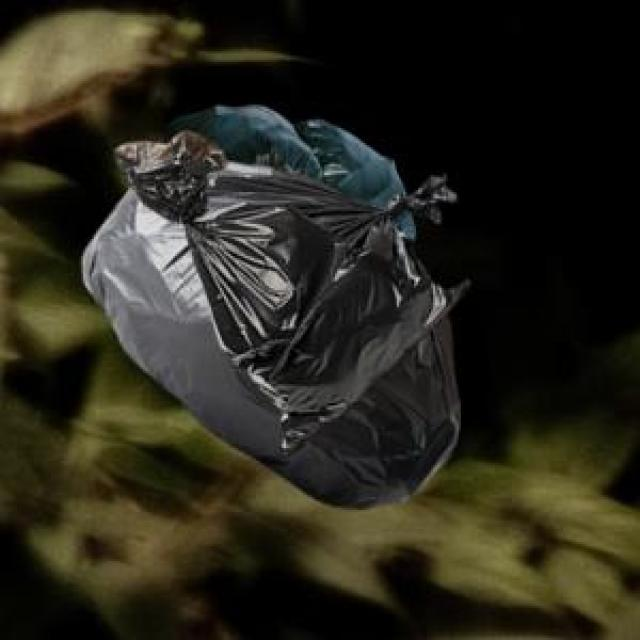Trashbag: (76, 165, 466, 516), (164, 100, 328, 174)
